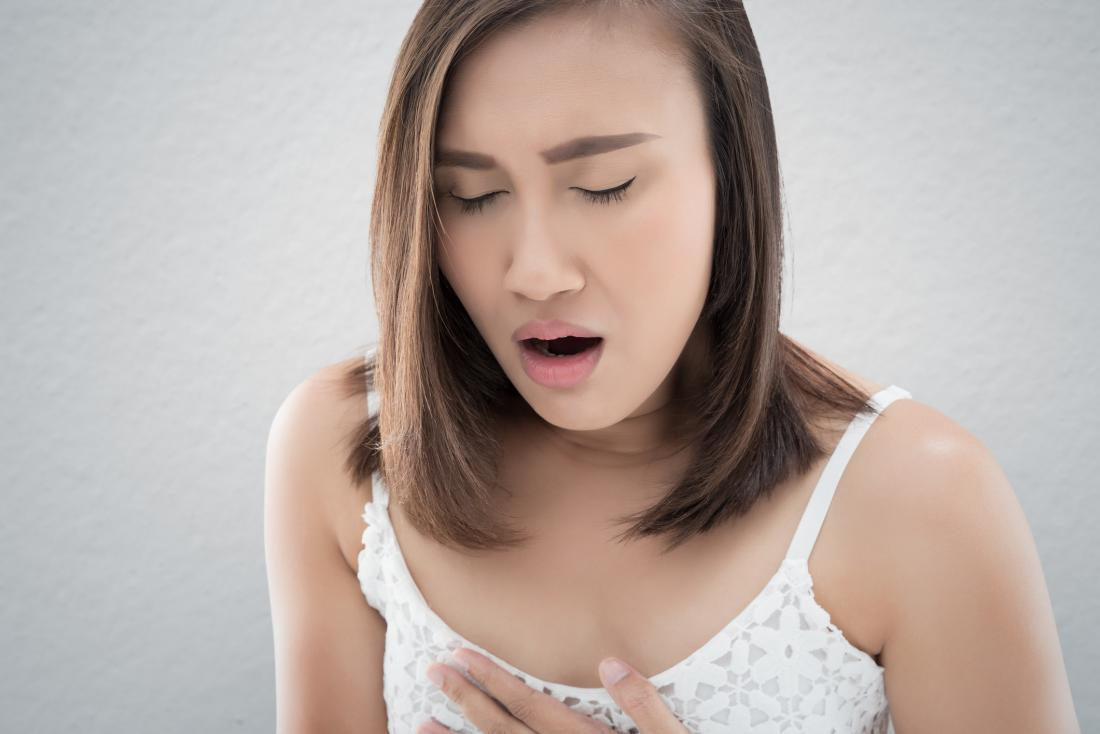pain: (411, 112, 674, 237)
